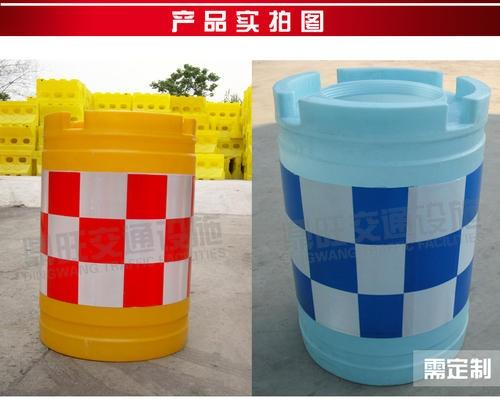cone_barrel: (274, 68, 487, 385), (39, 106, 192, 356)
